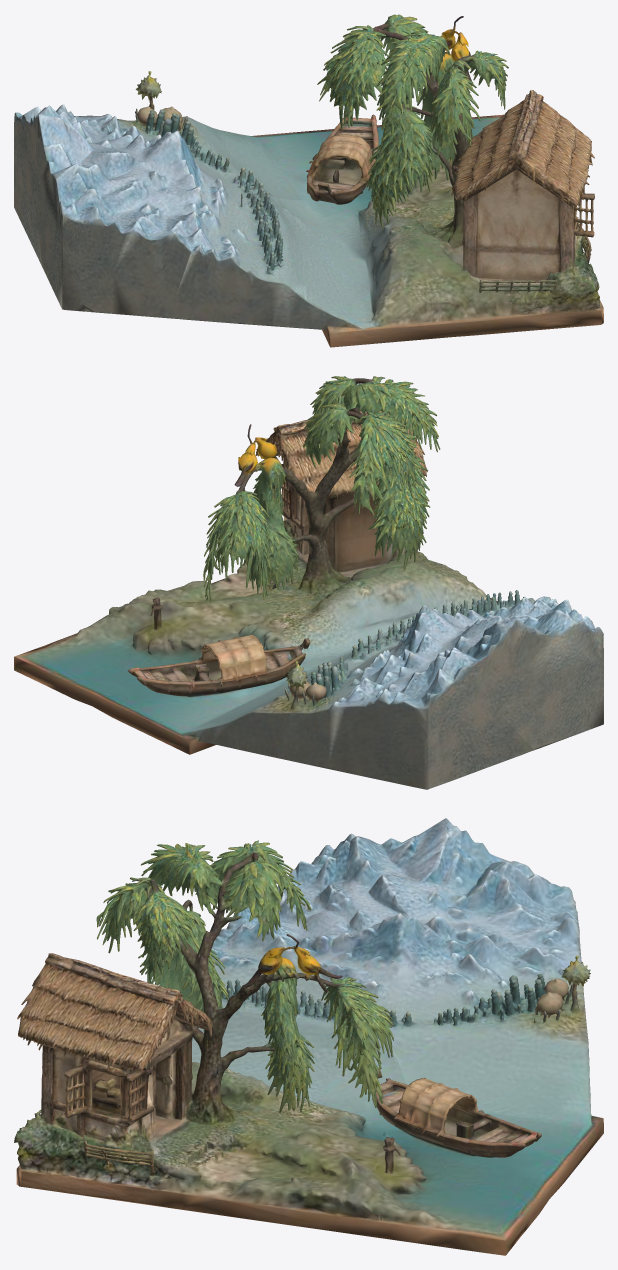
3 renders of one model, top to bottom at view 1: azimuth 30°, elevation 25°; view 2: azimuth 150°, elevation 25°; view 3: azimuth 270°, elevation 25°, orthographic. The views are drawn at different scales.
Visible parts, largest first — view 1: tripo_node_ddf27ae7-76b8-4ecb-9546-8d2c5cd9cdef; view 2: tripo_node_ddf27ae7-76b8-4ecb-9546-8d2c5cd9cdef; view 3: tripo_node_ddf27ae7-76b8-4ecb-9546-8d2c5cd9cdef.
Boxes of the visible parts, x1,y1,x2,y2 form: tripo_node_ddf27ae7-76b8-4ecb-9546-8d2c5cd9cdef: (14,14,603,347); tripo_node_ddf27ae7-76b8-4ecb-9546-8d2c5cd9cdef: (14,376,603,789); tripo_node_ddf27ae7-76b8-4ecb-9546-8d2c5cd9cdef: (14,818,603,1255).
Size of the model in its own units: 1.12 by 0.5121 by 0.9761.
Materials: 1 (1 with a texture image).
